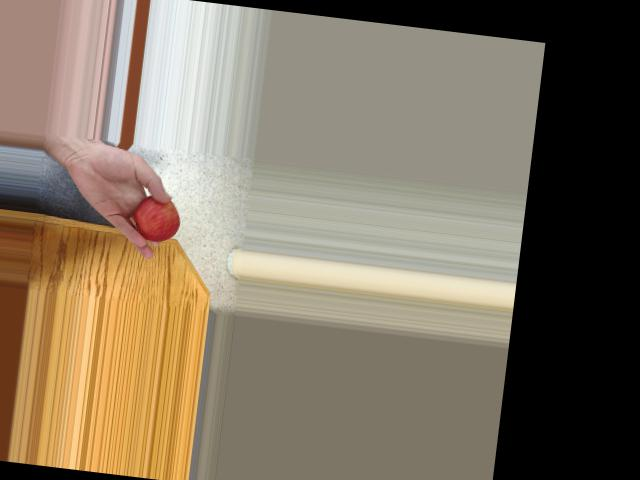apple: (128, 192, 182, 244)
